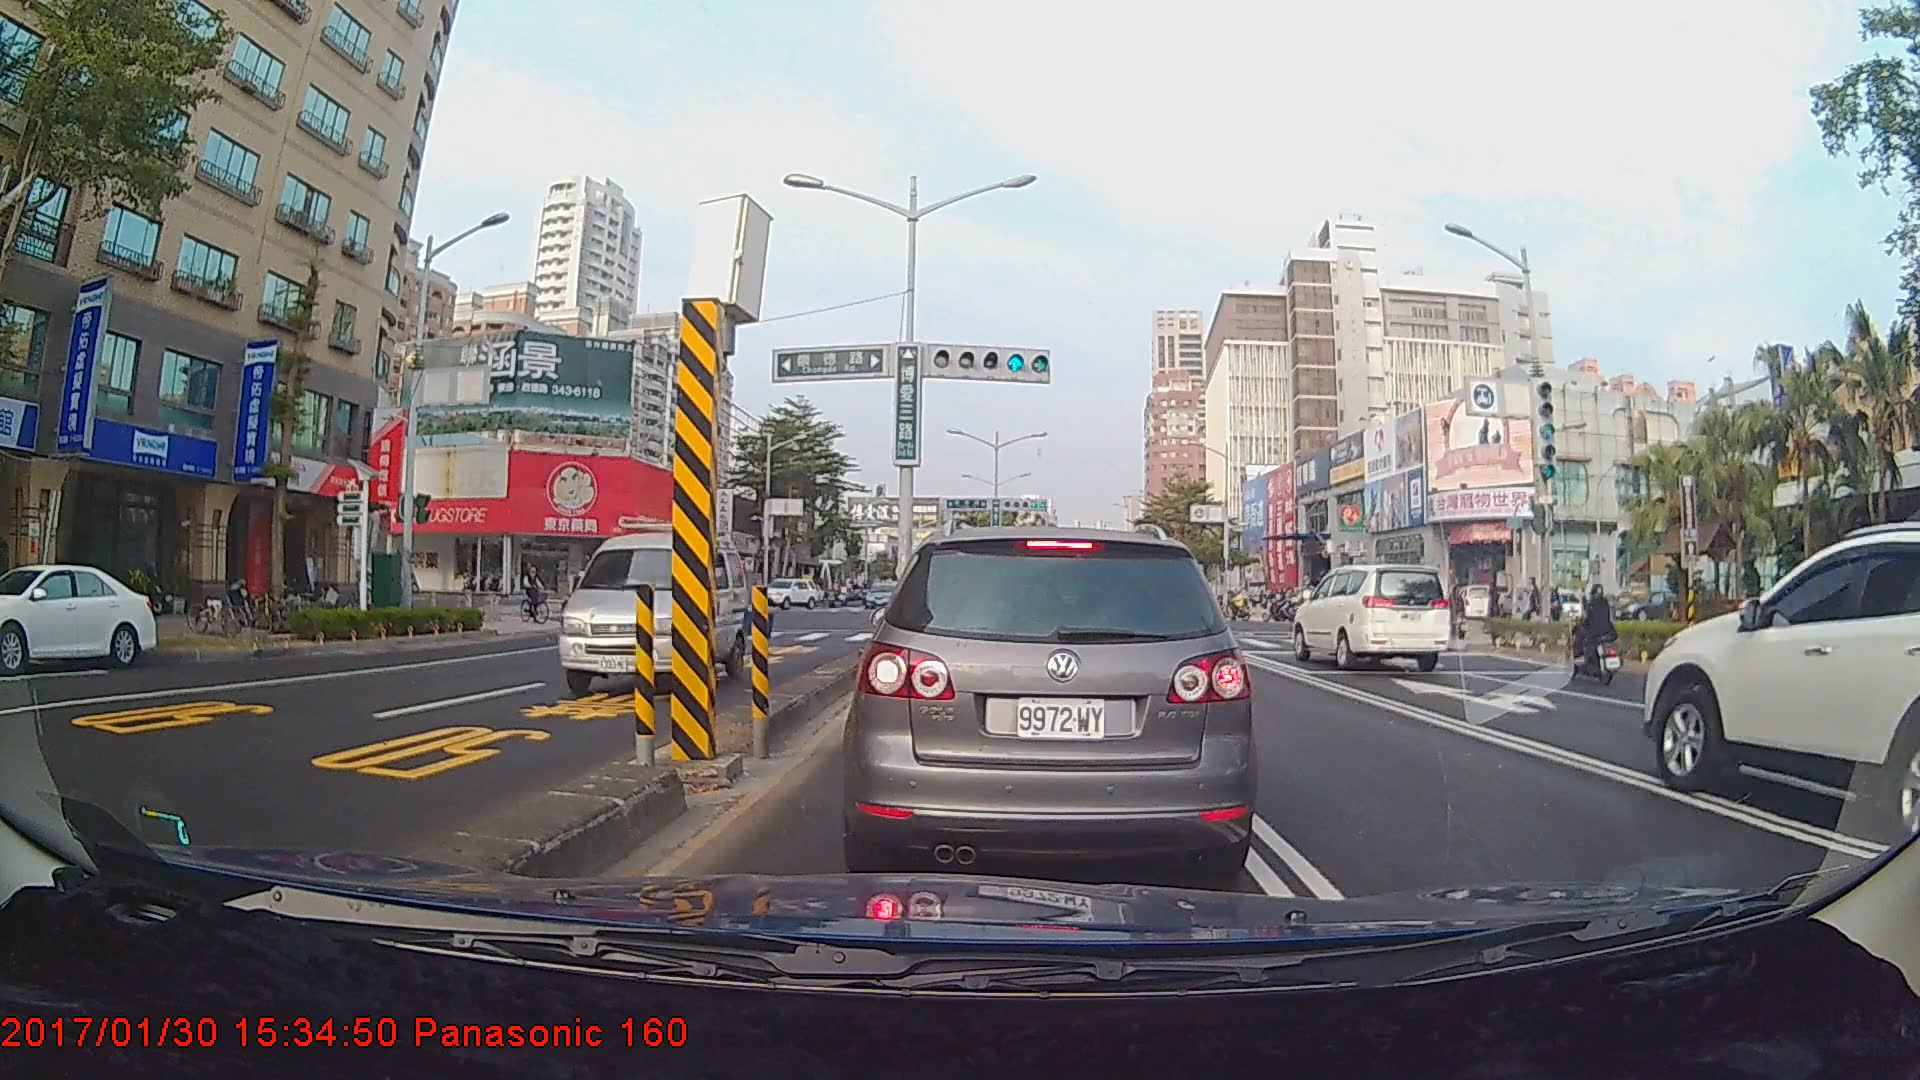pedestrian: (1487, 579, 1508, 637)
rider: (1555, 586, 1629, 687), (563, 568, 614, 625), (518, 559, 554, 629)
vehicle: (854, 521, 1252, 876), (1634, 519, 1920, 851), (555, 515, 749, 696), (1287, 562, 1453, 670), (0, 561, 158, 671), (862, 579, 901, 609)
